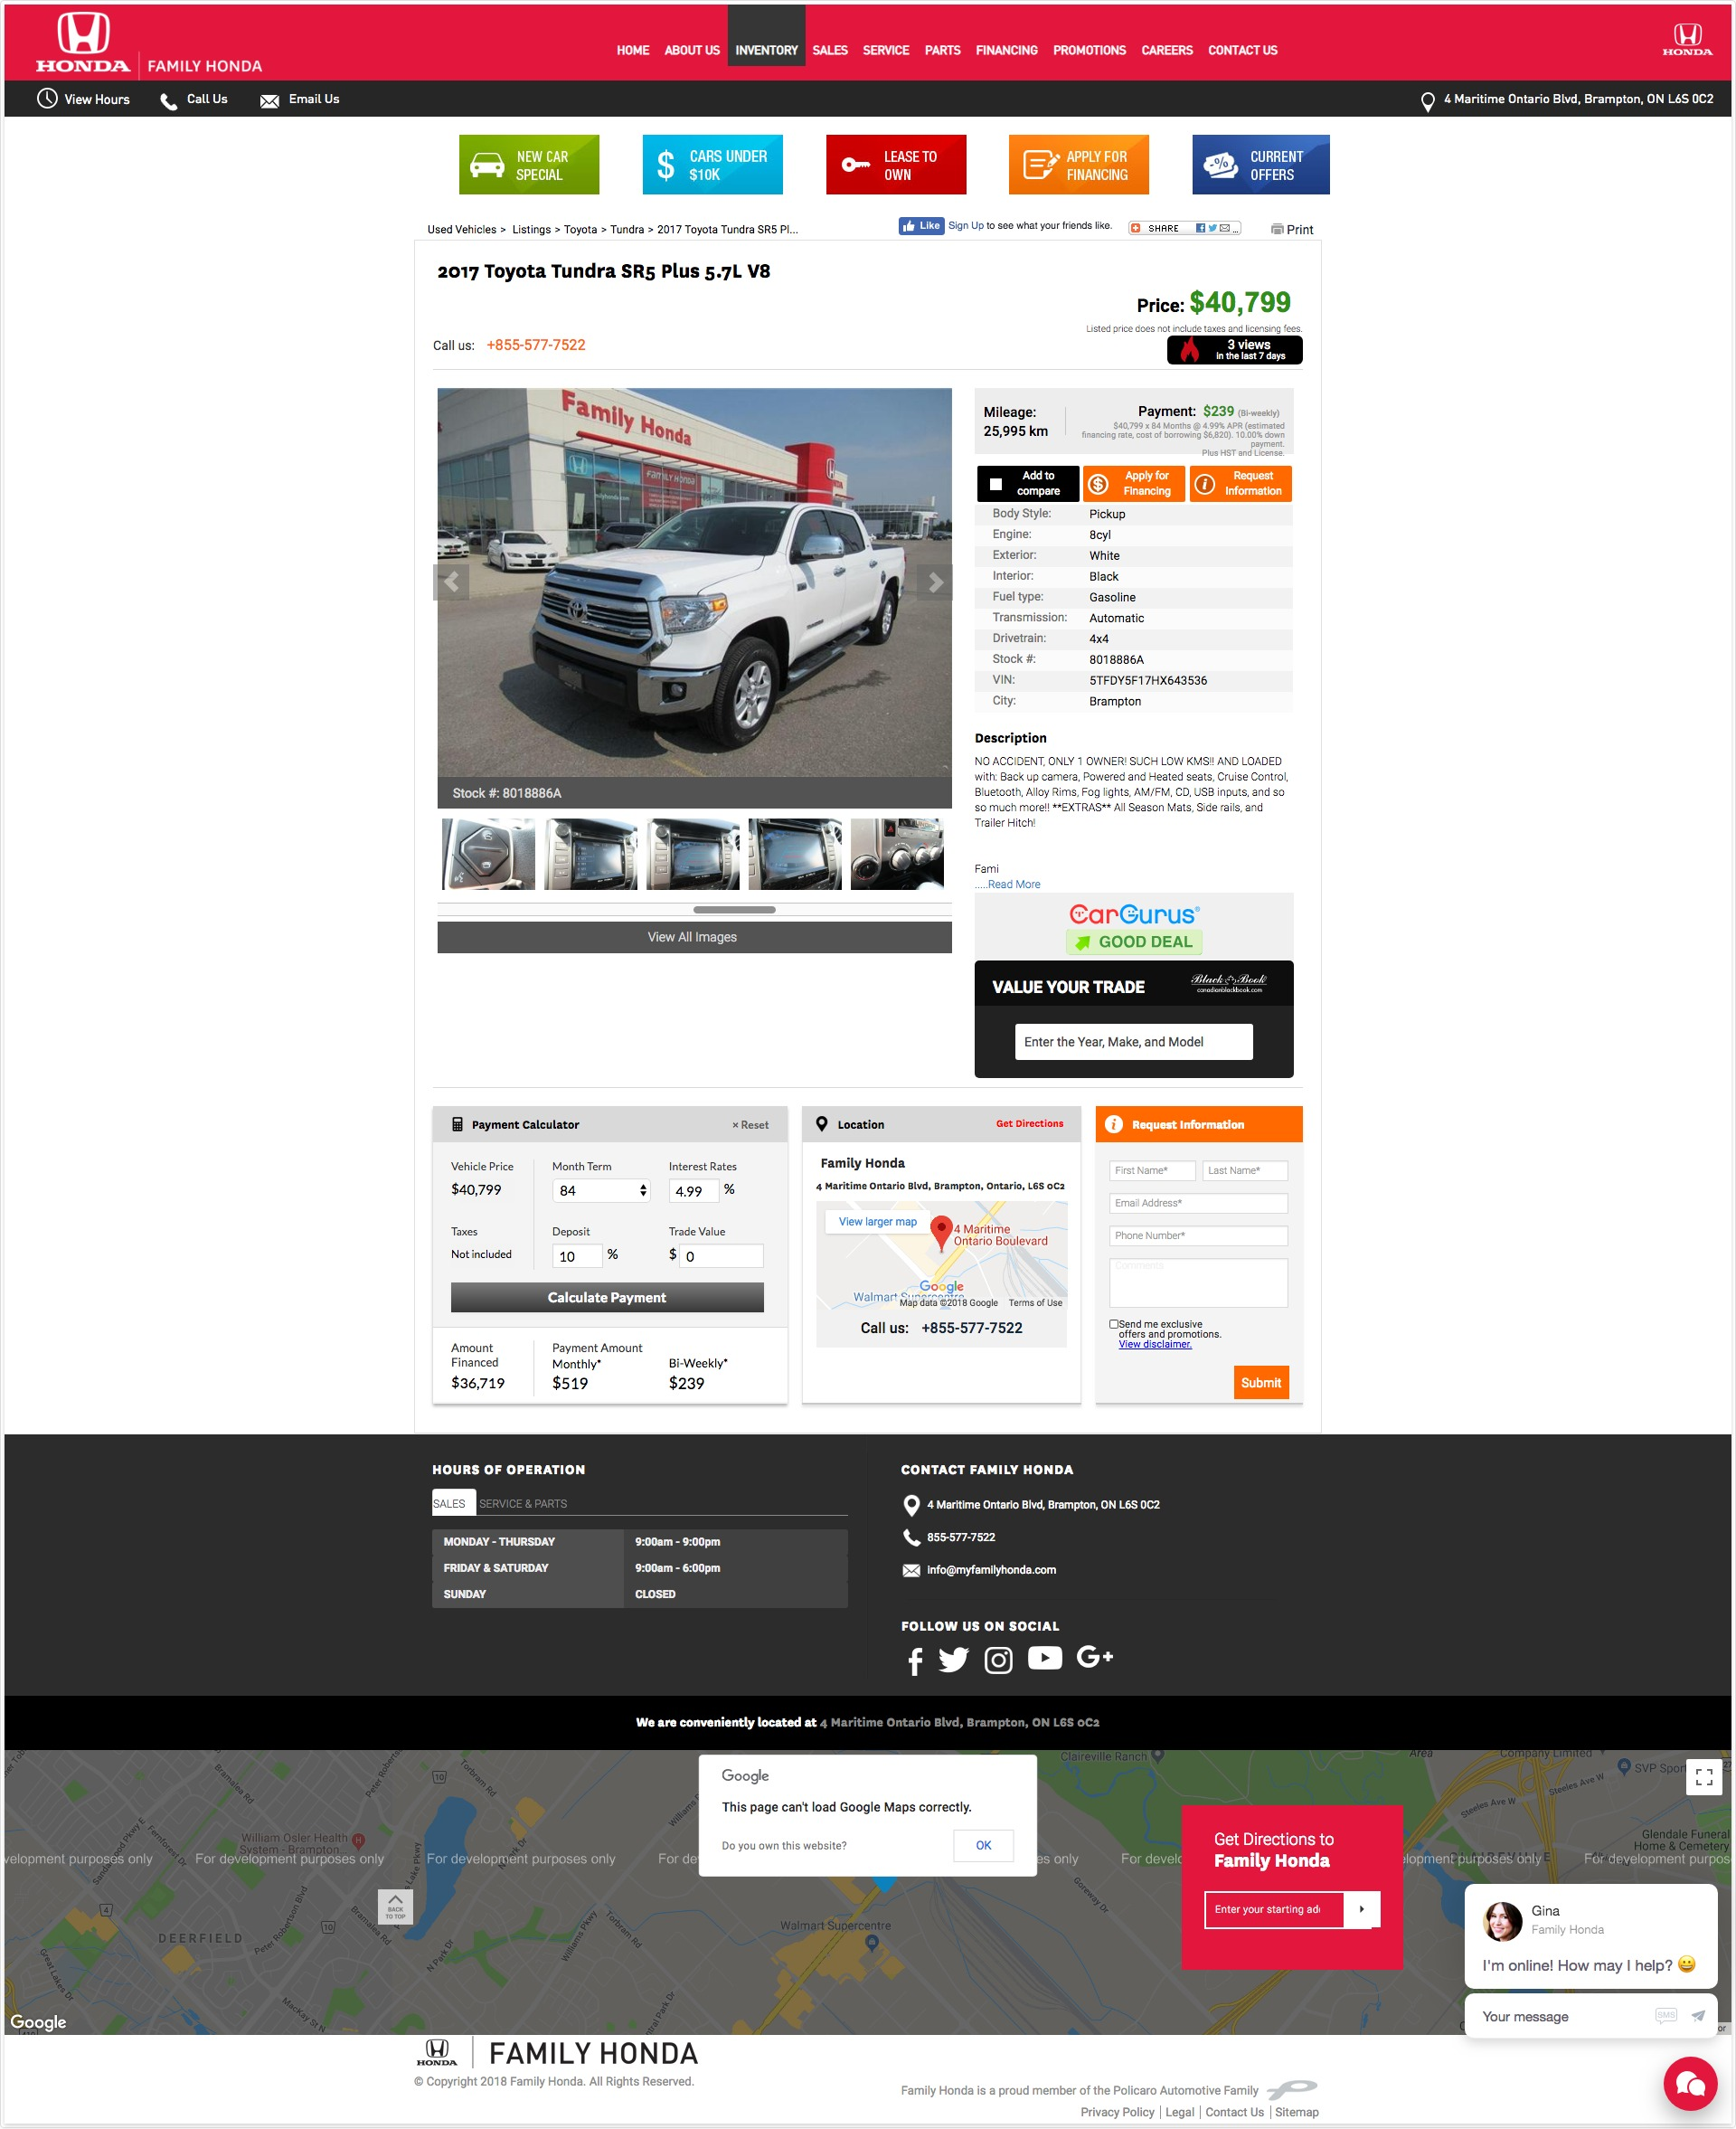car: (930, 573, 944, 596)
